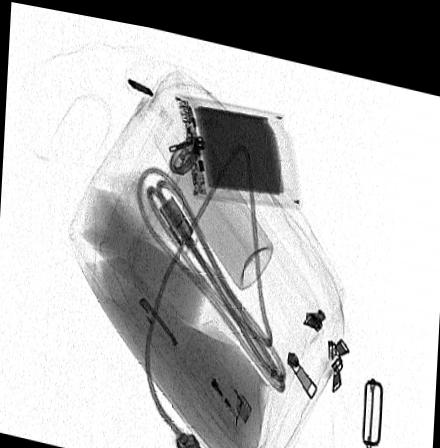Lighter: (181, 322, 252, 430)
Powerbank: (170, 87, 302, 196)
Sprayer: (146, 92, 271, 281)
